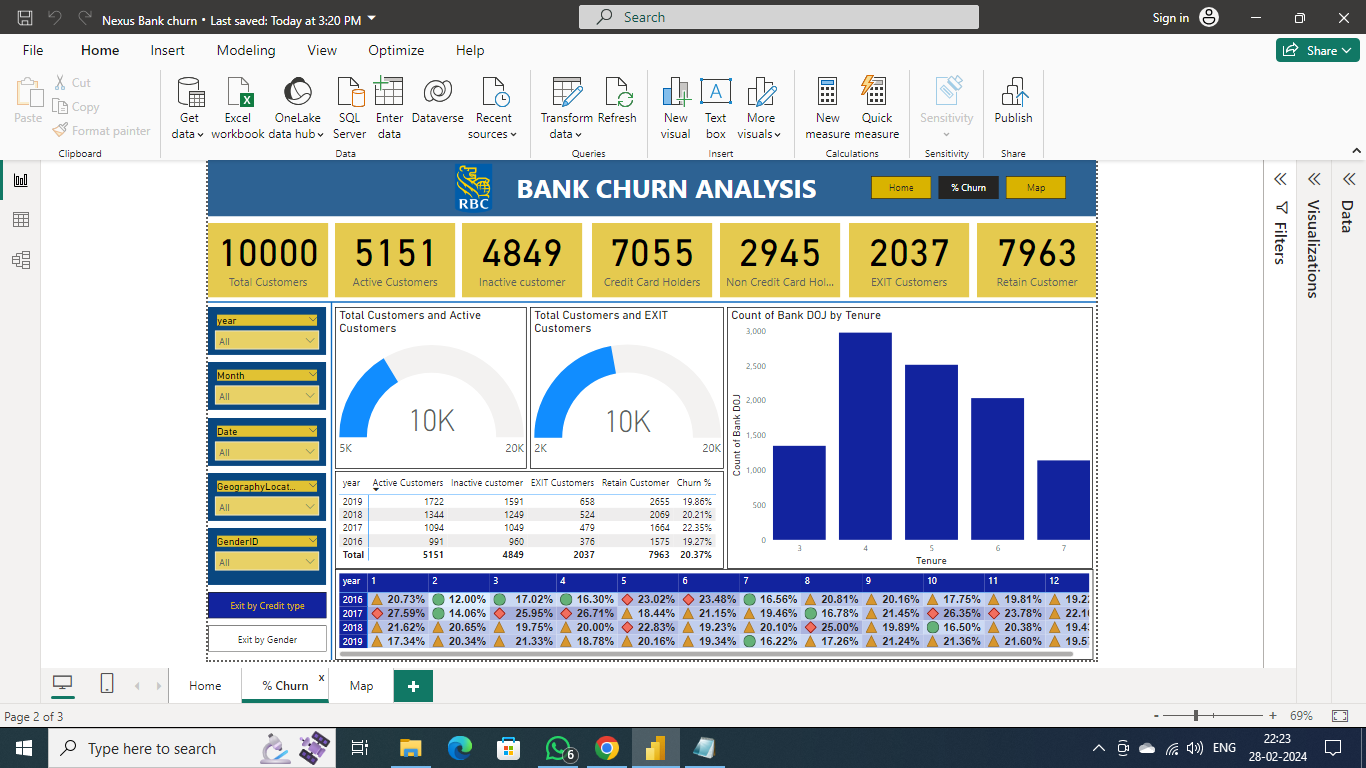

The dashboard page shown, as its layout file describes it:
{"tool":"powerbi","page":{"name":"% Churn","canvas":[1280,720],"ordinal":1},"visuals":[{"type":"pivotTable","fields":{"Rows":["Date Master.year"],"Columns":["Date Master.Month"],"Values":["Calculations.Churn %"]},"box":[182.9,589,1091.5,131],"z":0},{"type":"card","fields":{"Values":["Calculations.Total Customers"]},"box":[0,90.7,172.8,106.6],"z":1000},{"type":"card","fields":{"Values":["Calculations.Active Customers"]},"box":[182.9,90.7,172.8,106.6],"z":2000},{"type":"card","fields":{"Values":["Calculations.Inactive customer"]},"box":[365.8,90.7,172.8,106.6],"z":3000},{"type":"card","fields":{"Values":["Calculations.Credit Card Holders"]},"box":[553,90.7,172.8,106.6],"z":4000},{"type":"card","fields":{"Values":["Calculations.Non Credit Card Holders"]},"box":[737.3,90.7,172.8,106.6],"z":5000},{"type":"card","fields":{"Values":["Calculations.EXIT Customers"]},"box":[923,90.7,172.8,106.6],"z":6000},{"type":"card","fields":{"Values":["Calculations.Retain Customer"]},"box":[1107.2,90.7,172.8,106.6],"z":7000},{"type":"textbox","box":[0,0,1280.2,80.6],"z":8000},{"type":"clusteredColumnChart","fields":{"Y":["Bank_Churn.Bank DOJ"],"Category":["Bank_Churn.Tenure"]},"box":[747.4,211.7,527,377.3],"z":9000},{"type":"pageNavigator","box":[954.7,23,282.2,33.1],"z":10000},{"type":"image","box":[312.5,0,139.7,80.6],"z":11000},{"type":"shape","box":[0,197.3,1280.2,14.4],"z":12000},{"type":"shape","box":[172.8,204.5,10.1,515.5],"z":13000},{"type":"slicer","fields":{"Values":["Date Master.year"]},"box":[0,211.7,169.9,69.1],"z":14000},{"type":"slicer","fields":{"Values":["Date Master.Month"]},"box":[0,290.9,169.9,69.1],"z":15000},{"type":"slicer","fields":{"Values":["Date Master.Date"]},"box":[0,371.5,169.9,69.1],"z":16000},{"type":"bookmarkNavigator","box":[0,622.1,171.4,86.4],"z":17000},{"type":"slicer","fields":{"Values":["Geography.GeographyLocation"]},"box":[0,450.7,169.9,69.1],"z":18000},{"type":"slicer","fields":{"Values":["Gender.GenderID"]},"box":[0,529.9,169.9,82.1],"z":19000},{"type":"pivotTable","fields":{"Rows":["Date Master.year"],"Values":["Calculations.Active Customers","Calculations.Inactive customer","Calculations.EXIT Customers","Calculations.Retain Customer","Calculations.Churn %"]},"box":[182.9,447.8,560.2,141.1],"z":20000},{"type":"gauge","fields":{"Y":["Calculations.Total Customers"],"MinValue":["Calculations.Active Customers"]},"box":[182.9,211.7,276,233.3],"z":21000},{"type":"gauge","fields":{"Y":["Calculations.Total Customers"],"MinValue":["Calculations.EXIT Customers"]},"box":[463.7,211.7,279,233.3],"z":22000}]}

Visuals, with their boxes on the page's 1280x720 design canvas (x1, y1, x2, y2). These are canvas units, not pixel positions in the 1366x768 screenshot, which may show the page scaled, cropped or inside an application window:
pivotTable - Date Master.year x Date Master.Month: box=[183, 589, 1274, 720]
card - Calculations.Total Customers: box=[0, 91, 173, 197]
card - Calculations.Active Customers: box=[183, 91, 356, 197]
card - Calculations.Inactive customer: box=[366, 91, 539, 197]
card - Calculations.Credit Card Holders: box=[553, 91, 726, 197]
card - Calculations.Non Credit Card Holders: box=[737, 91, 910, 197]
card - Calculations.EXIT Customers: box=[923, 91, 1096, 197]
card - Calculations.Retain Customer: box=[1107, 91, 1280, 197]
textbox: box=[0, 0, 1280, 81]
clusteredColumnChart - Bank_Churn.Bank DOJ x Bank_Churn.Tenure: box=[747, 212, 1274, 589]
pageNavigator: box=[955, 23, 1237, 56]
image: box=[312, 0, 452, 81]
shape: box=[0, 197, 1280, 212]
shape: box=[173, 204, 183, 720]
slicer - Date Master.year: box=[0, 212, 170, 281]
slicer - Date Master.Month: box=[0, 291, 170, 360]
slicer - Date Master.Date: box=[0, 372, 170, 441]
bookmarkNavigator: box=[0, 622, 171, 708]
slicer - Geography.GeographyLocation: box=[0, 451, 170, 520]
slicer - Gender.GenderID: box=[0, 530, 170, 612]
pivotTable - Date Master.year x Calculations.Active Customers: box=[183, 448, 743, 589]
gauge - Calculations.Total Customers x Calculations.Active Customers: box=[183, 212, 459, 445]
gauge - Calculations.Total Customers x Calculations.EXIT Customers: box=[464, 212, 743, 445]
